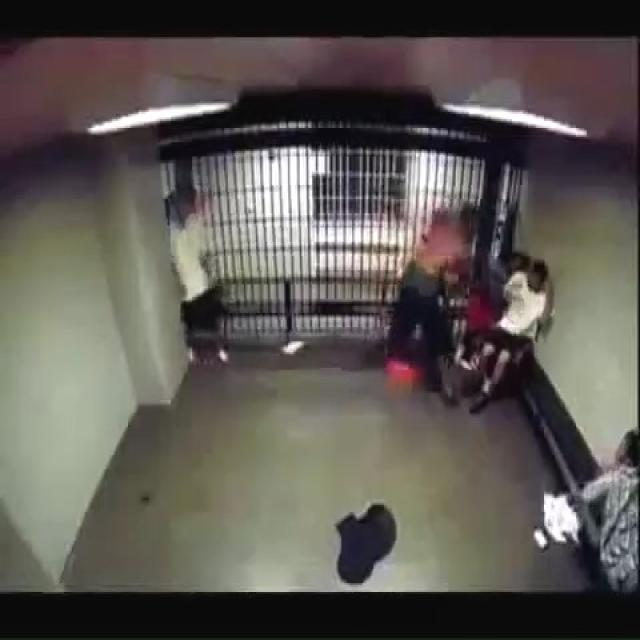fight: (388, 196, 486, 412)
